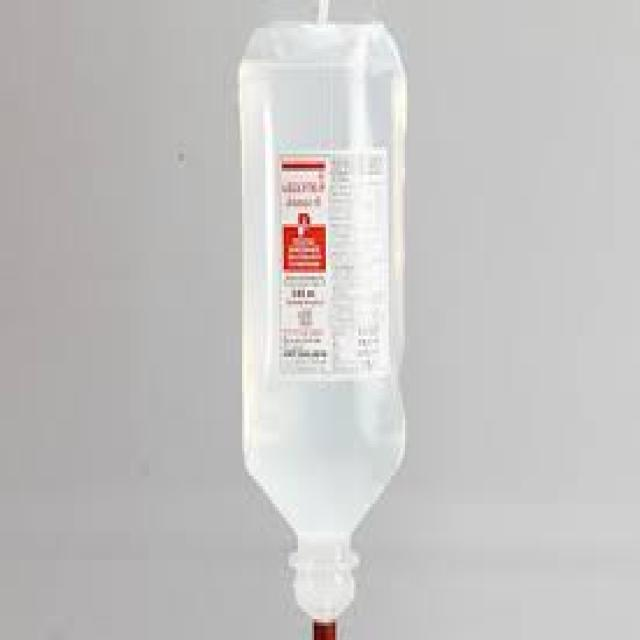B3: (224, 3, 428, 640)
